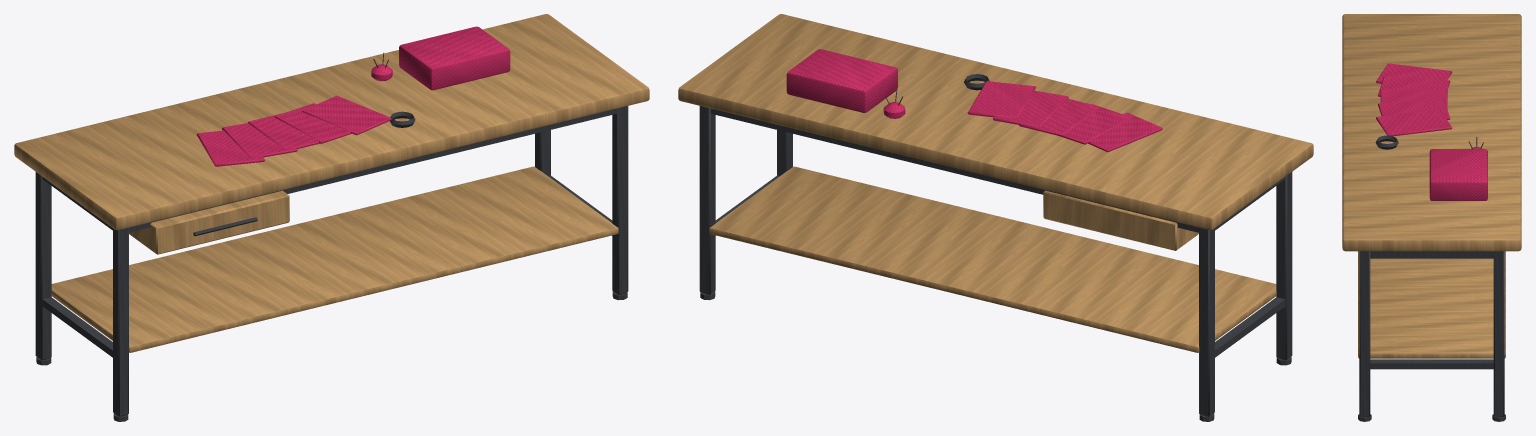
Rendered from bancada-24.glb.
The picture shows the model from 3 angles, left to right: view 1: azimuth 30°, elevation 25°; view 2: azimuth 150°, elevation 25°; view 3: azimuth 270°, elevation 25°; orthographic projection. The views are drawn at different scales.
Parts seen in each view (by area): view 1: tampo, prateleira, caixa-de-amostras, gaveta, pe.002, pe, pe.001, longarina, amostra.004, amostra, amostra.003, amostra.001 (+3 smaller); view 2: tampo, prateleira, caixa-de-amostras, gaveta, pe.003, pe.001, pe, longarina.001, amostra.004, amostra, amostra.002, amostra.003 (+3 smaller); view 3: tampo, prateleira, caixa-de-amostras, pe.002, pe.003, amostra.004, apoio-prateleira.001, travessa-lado.001, amostra, amostra.003, amostra.001, amostra.002 (+1 smaller).
Boxes of the visible parts, x1,y1,x2,y2 form: tampo: (14, 14, 649, 230); prateleira: (51, 166, 618, 352); caixa-de-amostras: (399, 26, 510, 90); gaveta: (129, 190, 289, 254); pe.002: (612, 106, 628, 294); pe: (113, 227, 128, 416); pe.001: (35, 172, 51, 360); longarina: (129, 108, 617, 232); amostra.004: (302, 95, 391, 135); amostra: (196, 130, 264, 166); amostra.003: (274, 103, 351, 143); amostra.001: (222, 123, 297, 157); tampo: (678, 14, 1313, 230); prateleira: (709, 166, 1276, 352); caixa-de-amostras: (786, 49, 897, 112); gaveta: (1043, 190, 1198, 250); pe.003: (699, 106, 715, 294); pe.001: (1199, 227, 1214, 416); pe: (1276, 172, 1292, 360); longarina.001: (710, 108, 1198, 232); amostra.004: (967, 81, 1035, 118); amostra: (1088, 112, 1162, 152); amostra.002: (1018, 98, 1100, 136); amostra.003: (993, 90, 1068, 126); tampo: (1342, 14, 1521, 251); prateleira: (1358, 251, 1505, 358); caixa-de-amostras: (1429, 149, 1487, 200); pe.002: (1359, 251, 1370, 416); pe.003: (1493, 251, 1504, 416); amostra.004: (1376, 109, 1452, 136); apoio-prateleira.001: (1370, 359, 1493, 369); travessa-lado.001: (1370, 251, 1493, 258); amostra: (1376, 63, 1452, 83); amostra.003: (1378, 99, 1450, 119); amostra.001: (1378, 76, 1450, 96); amostra.002: (1380, 90, 1447, 109).
Size of the model in its own units: 2.4 by 1.02 by 0.8.
Materials: 3 (3 with a texture image).
